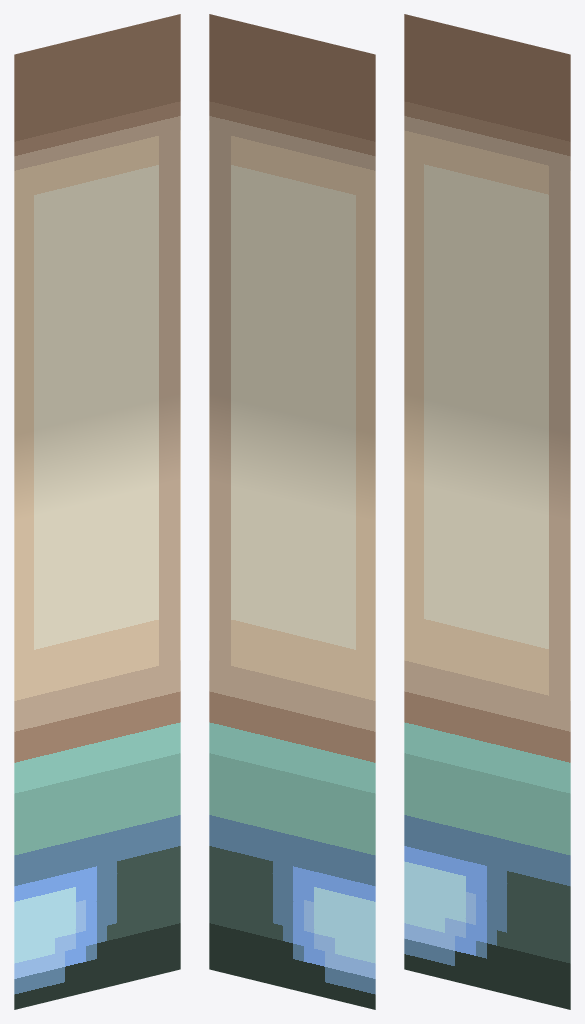
3 renders of one model, left to right at view 1: azimuth 30°, elevation 25°; view 2: azimuth 150°, elevation 25°; view 3: azimuth 330°, elevation 25°, orthographic.
Bounding box in the file's own units: 1 × 5.5 × 0.
Materials: 1 (1 with a texture image).
